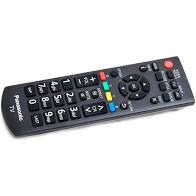remote control: (0, 42, 196, 142)
